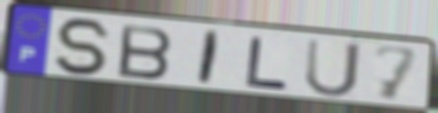7: (371, 43, 421, 104)
B: (116, 23, 175, 82)
I: (194, 28, 224, 88)
L: (244, 35, 293, 91)
S: (53, 16, 116, 79)
U: (303, 37, 363, 100)
